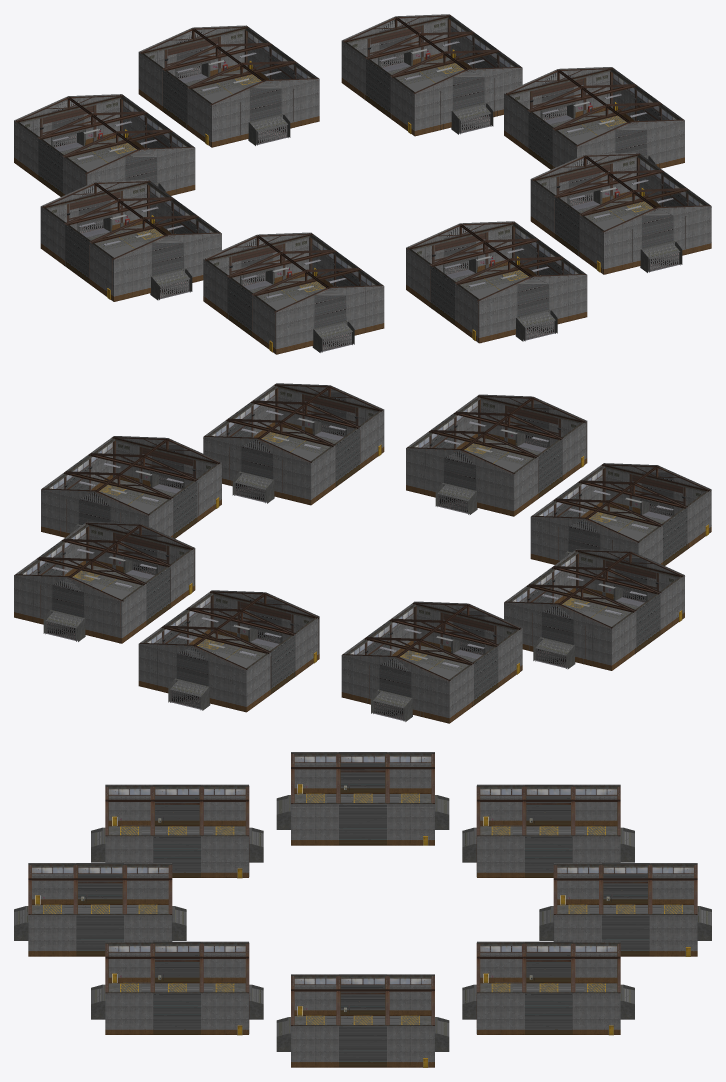
Rendered from level-backdrop.glb.
3 views of the same model, one above another, from view 1: azimuth 30°, elevation 25°; view 2: azimuth 150°, elevation 25°; view 3: azimuth 270°, elevation 25° (orthographic).
Visible parts, largest first — view 1: backdrop_0; view 2: backdrop_0; view 3: backdrop_0.
Part boxes in pixels (bbox=[...]): backdrop_0: bbox=[14, 14, 711, 354]; backdrop_0: bbox=[14, 383, 711, 723]; backdrop_0: bbox=[14, 752, 711, 1067].
Size of the model in its own units: 98.85 by 9.2 by 106.
Materials: 1 (1 with a texture image).
